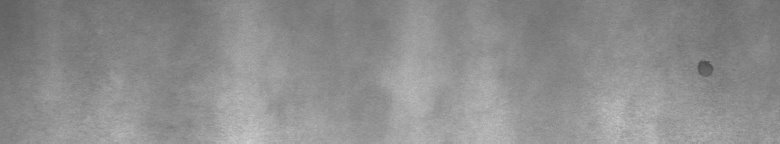fi: (692, 52, 716, 84)
